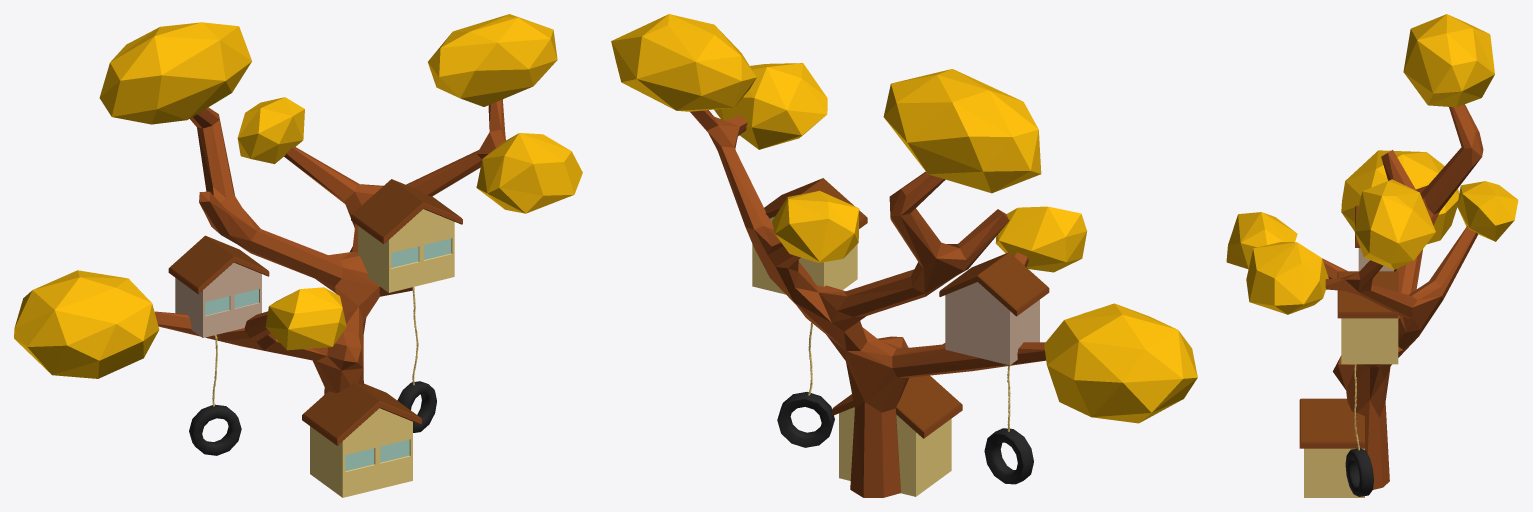
Rendered from island8.monkey-hause.fbx.
3 renders of one model, left to right at view 1: azimuth 30°, elevation 25°; view 2: azimuth 150°, elevation 25°; view 3: azimuth 270°, elevation 25°, orthographic. The views are drawn at different scales.
Visible parts, largest first — view 1: island8-monkey-hause; view 2: island8-monkey-hause; view 3: island8-monkey-hause.
Boxes of the visible parts, x1,y1,x2,y2 form: island8-monkey-hause: (14,14,582,497); island8-monkey-hause: (611,14,1197,497); island8-monkey-hause: (1226,14,1518,497).
Bounding box in the file's own units: 18.7 × 14.6 × 9.57.
1 material, 1 textured.
